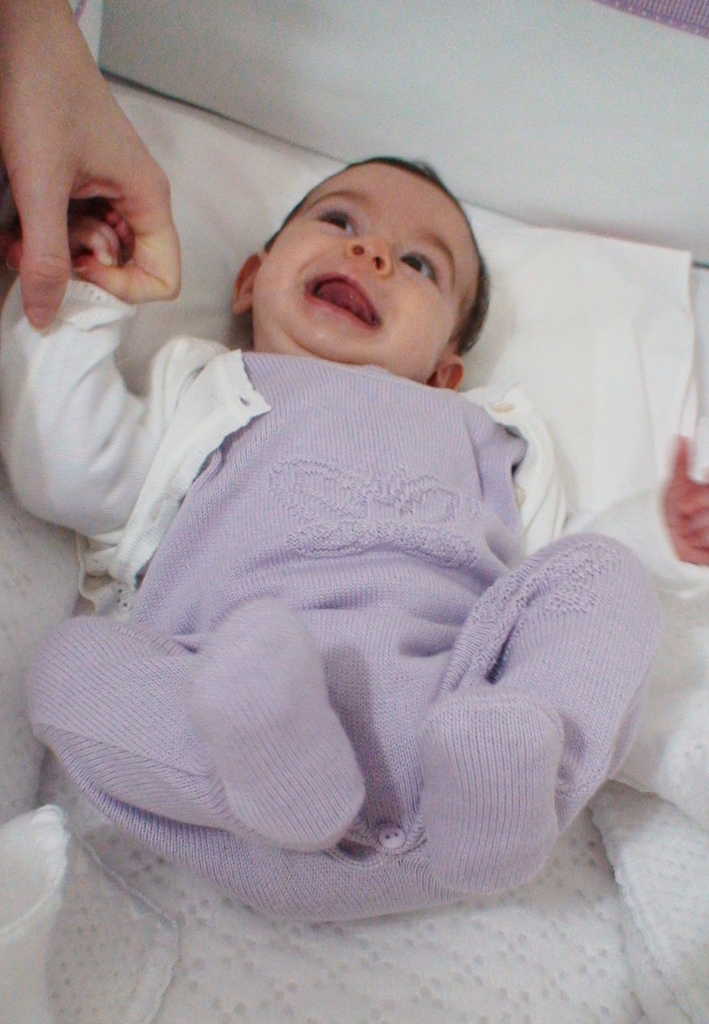Human_hand: (0, 0, 183, 332), (0, 210, 138, 266), (663, 431, 708, 570)
